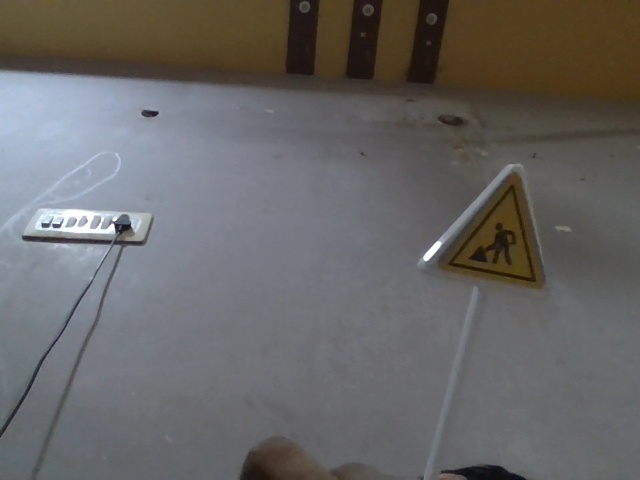workinprogress: (425, 151, 562, 305)
